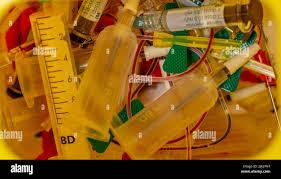Iv_Bottle: (113, 44, 259, 158), (72, 0, 138, 139), (134, 0, 262, 31), (70, 0, 107, 44)
